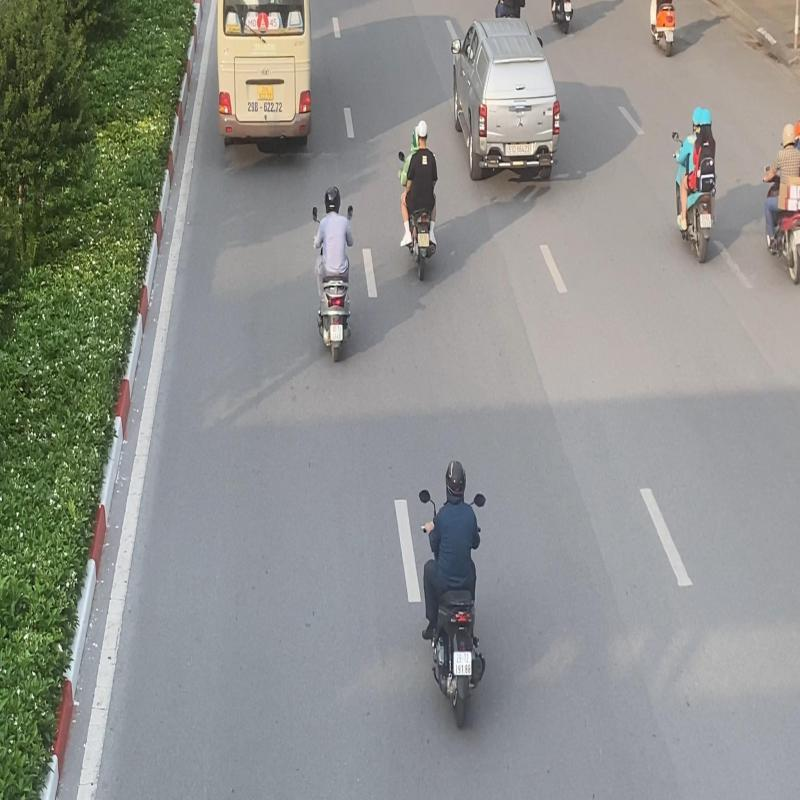helmet: (445, 460, 466, 500)
licenseplate: (453, 652, 472, 676)
motorcyclist: (416, 458, 489, 731)
